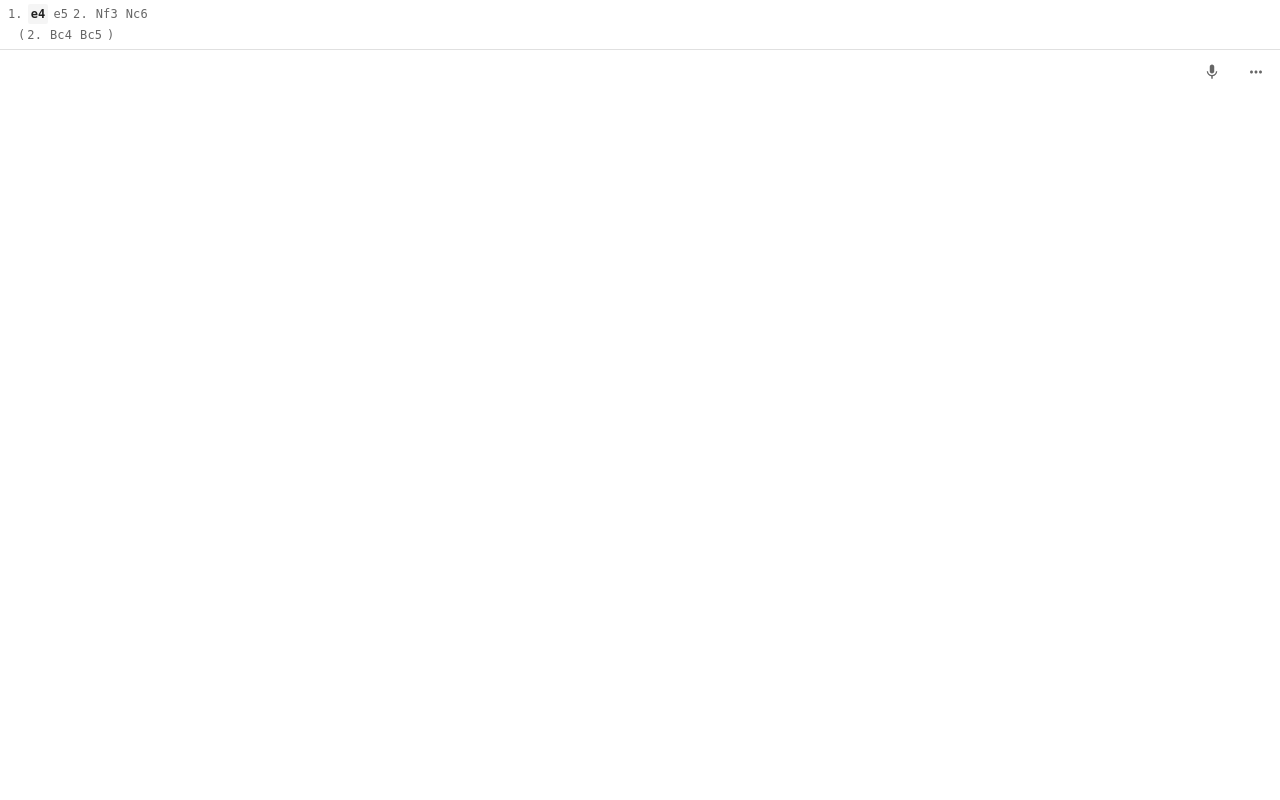
Test: Recording a voice note › desktop action bar: record → stop → preview → Save passes the recording
Click the button named "Voice note". click: {"x": 1212, "y": 72}
box: [1192, 52, 1232, 92]
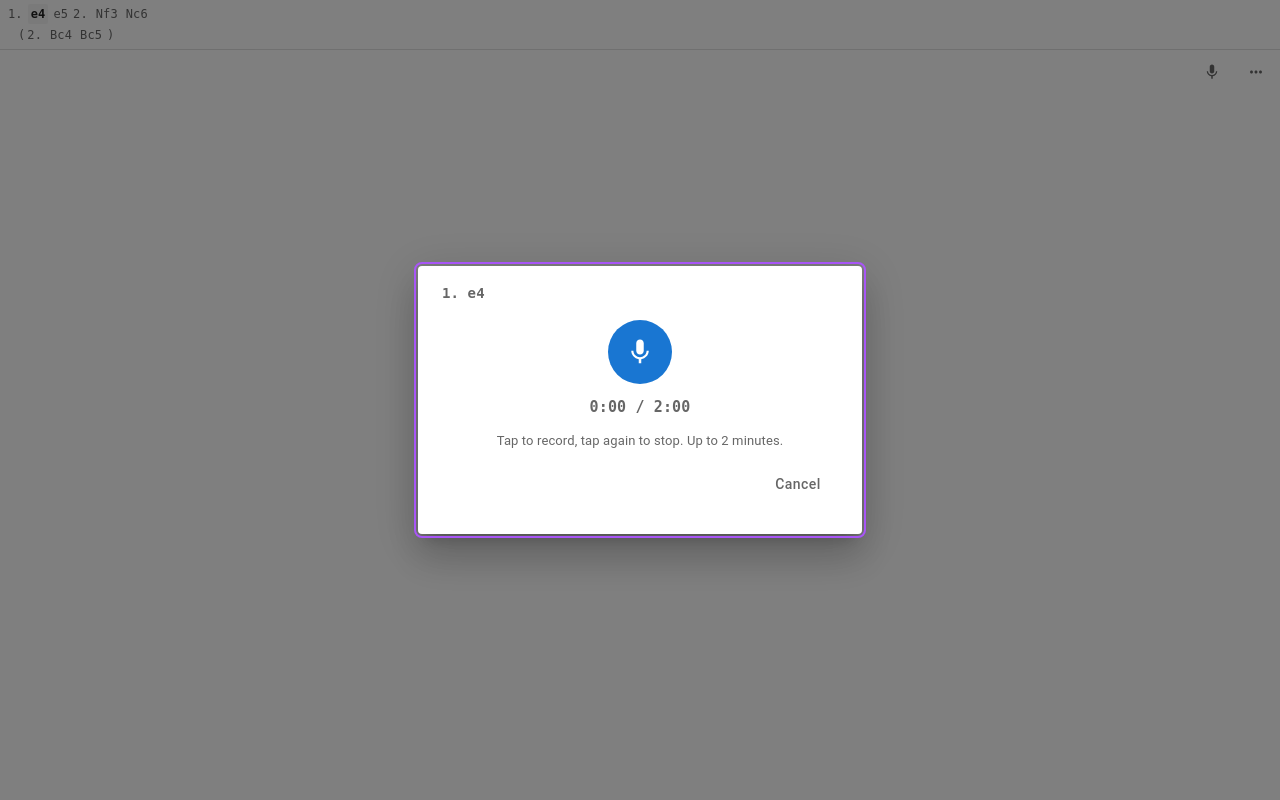
Check: the heading "1. e4" is shown, box [442, 285, 485, 301]
Click the button named "Record". click: {"x": 640, "y": 352}
box: [608, 320, 672, 384]
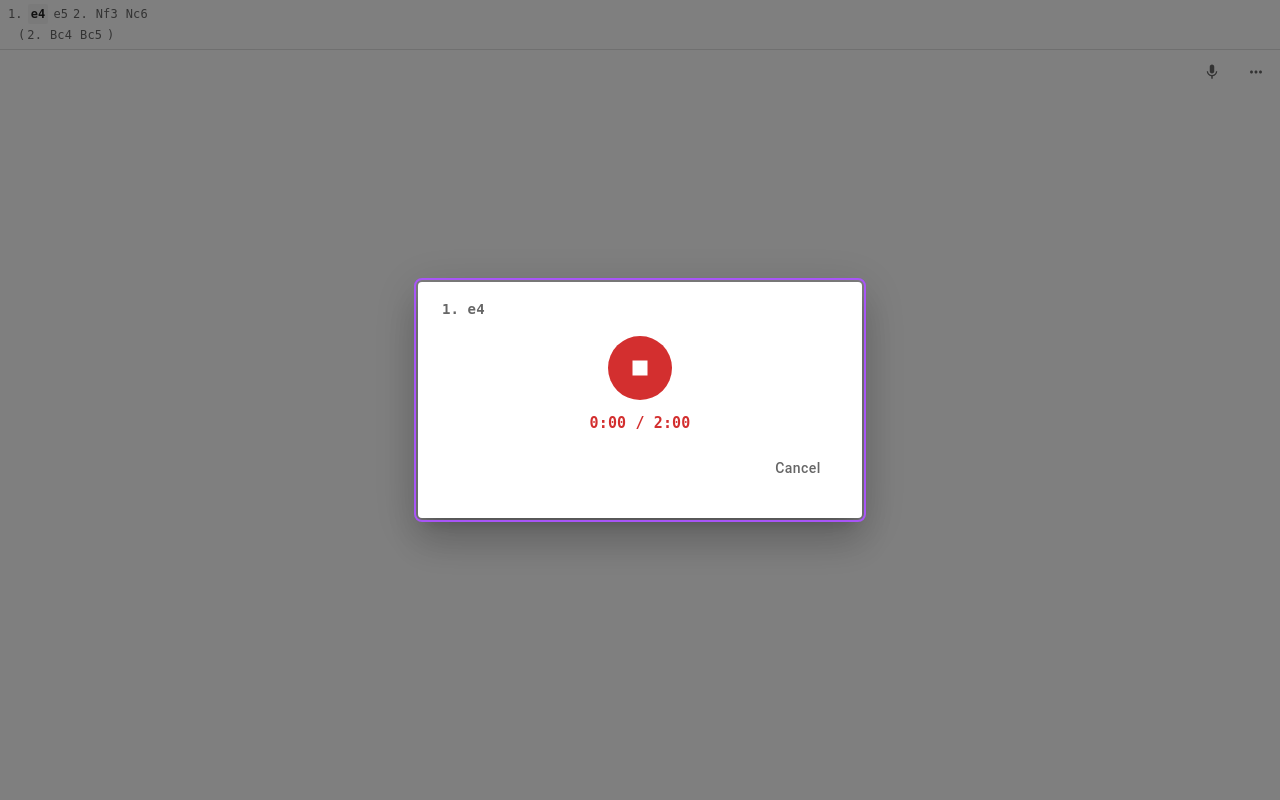
Check: the button named "Stop" is shown
Click the button named "Stop". click: {"x": 640, "y": 368}
box: [608, 336, 672, 400]
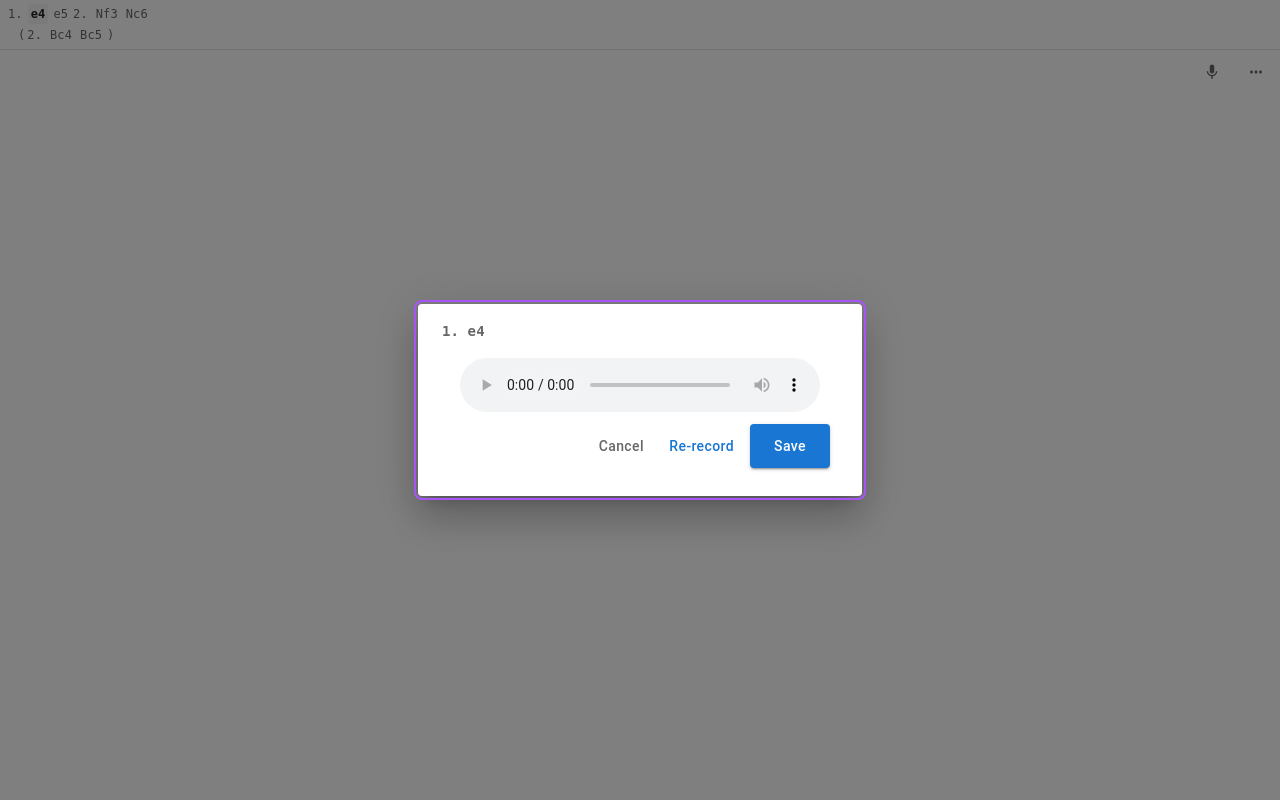
Click the button "Save". click: {"x": 790, "y": 446}
box: [750, 424, 830, 468]
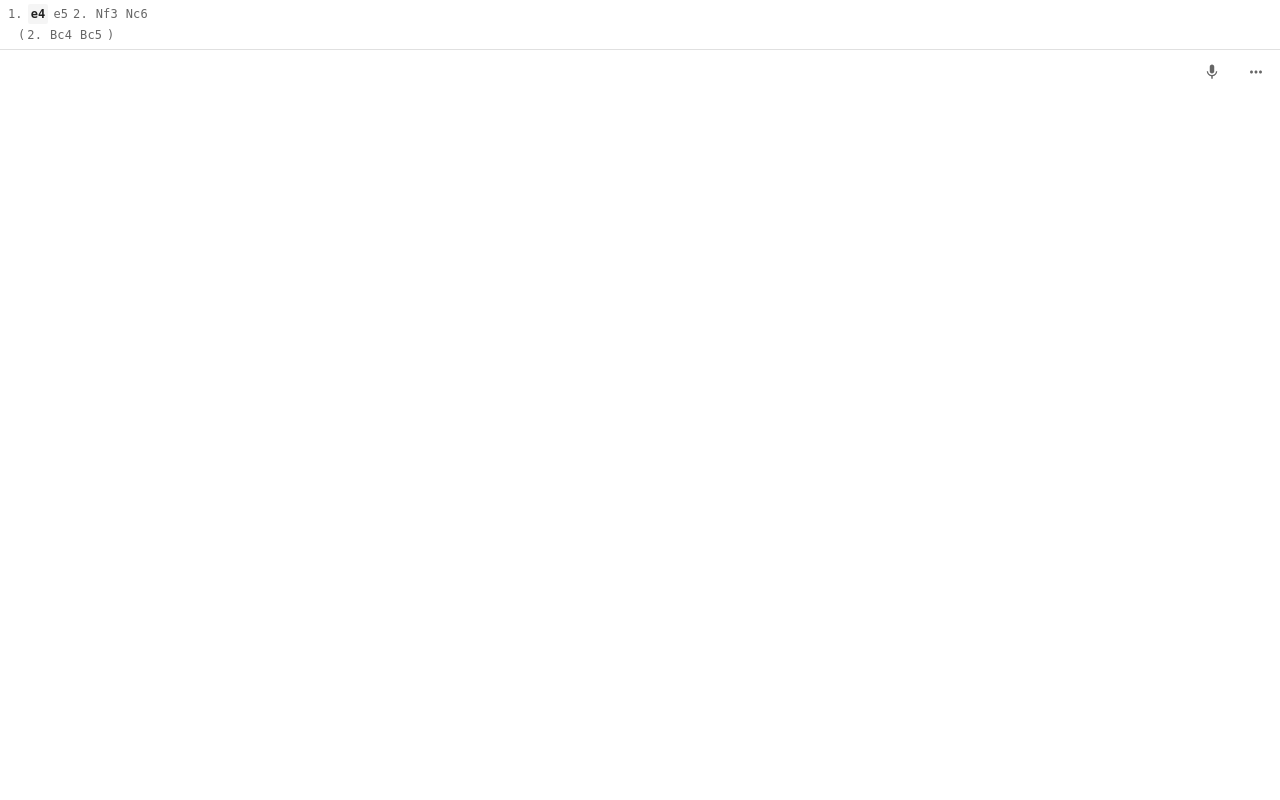
Check: the dialog is gone
